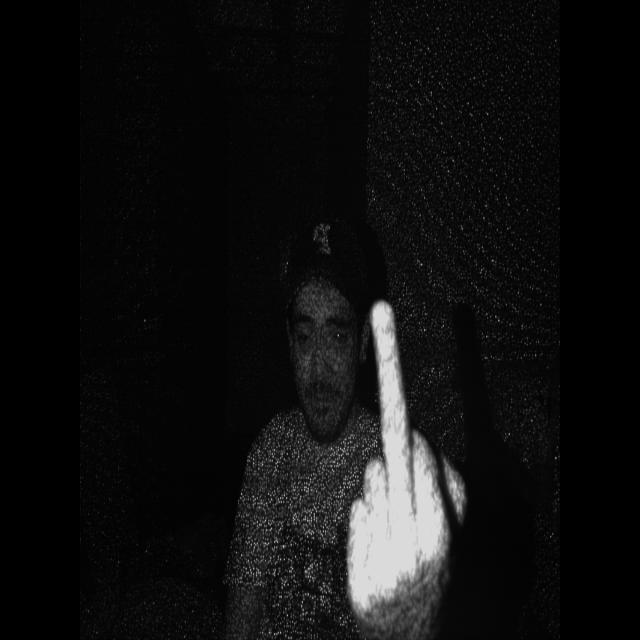FUCK YOU: (343, 278, 466, 640)
